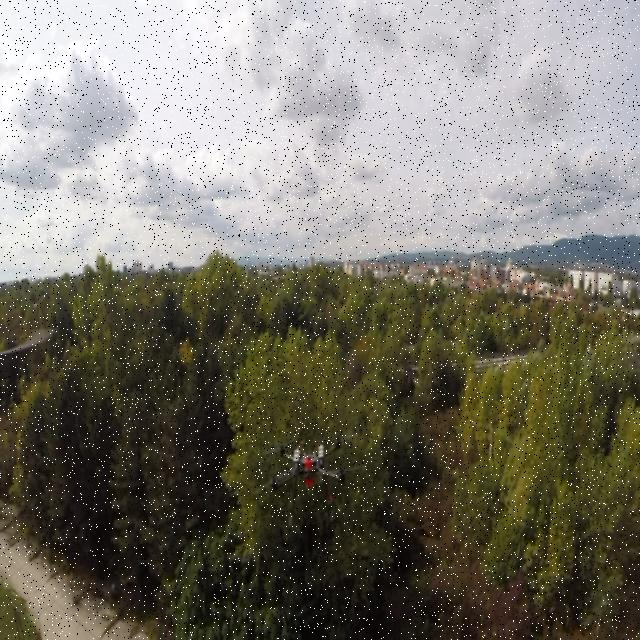UAV: (256, 424, 366, 531)
